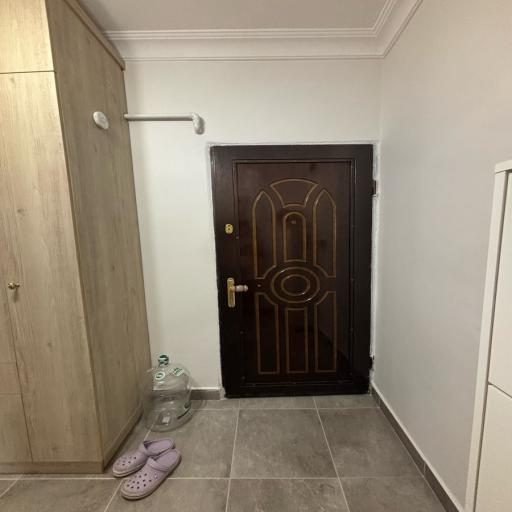bus: (0, 0, 150, 477)
child: (212, 142, 388, 400)
